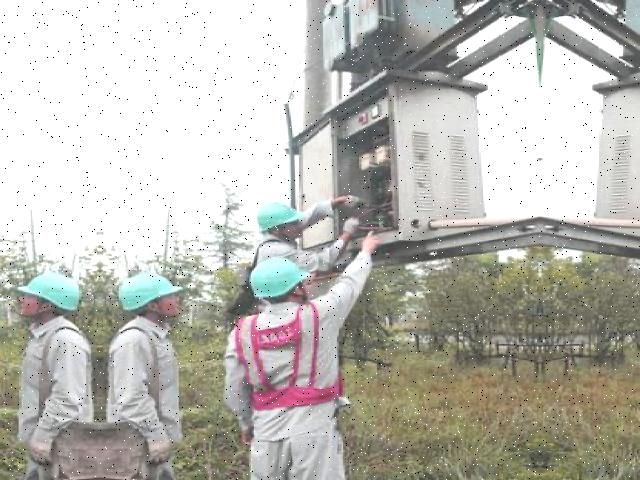Helmet: (13, 266, 90, 316), (116, 266, 190, 316), (250, 253, 316, 302), (252, 197, 311, 236)
